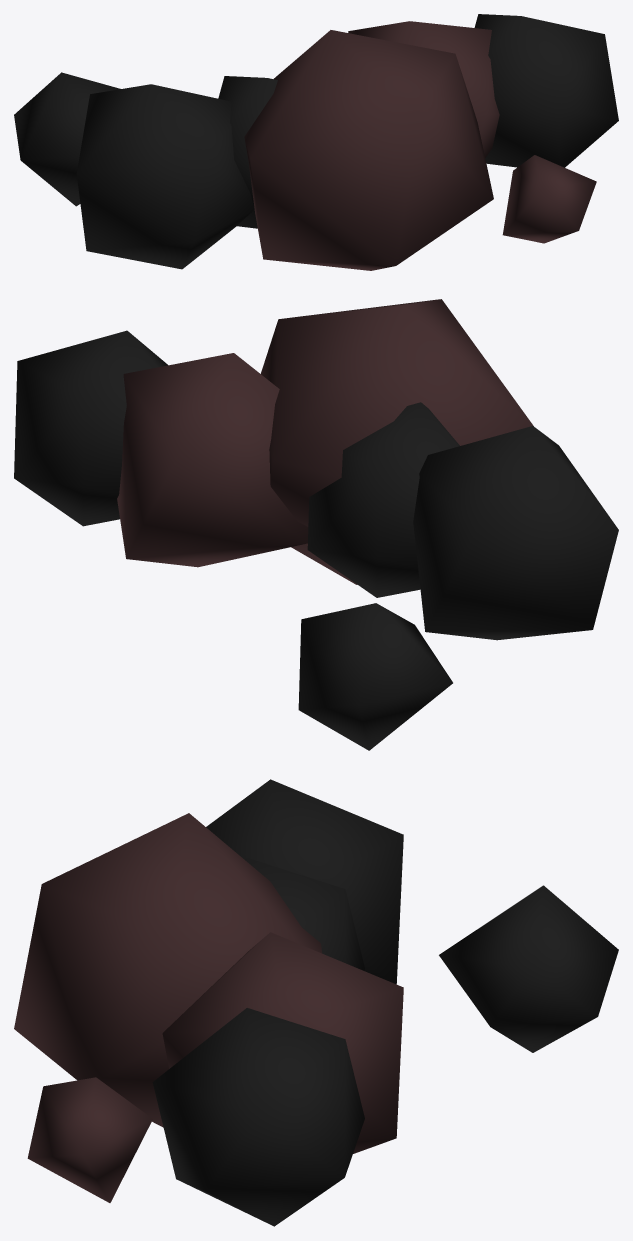
The model's file is trash.fbx.
The picture shows the model from 3 angles, top to bottom: view 1: azimuth 30°, elevation 25°; view 2: azimuth 150°, elevation 25°; view 3: azimuth 270°, elevation 25°; orthographic projection. The views are drawn at different scales.
Parts seen in each view (by area): view 1: Icosphere.006; view 2: Icosphere.006; view 3: Icosphere.006.
Boxes of the visible parts, x1=… form: Icosphere.006: x1=14, y1=14, x2=618, y2=270; Icosphere.006: x1=14, y1=299, x2=618, y2=750; Icosphere.006: x1=14, y1=779, x2=618, y2=1226.
Bounding box in the file's own units: 173 × 79.81 × 143.
